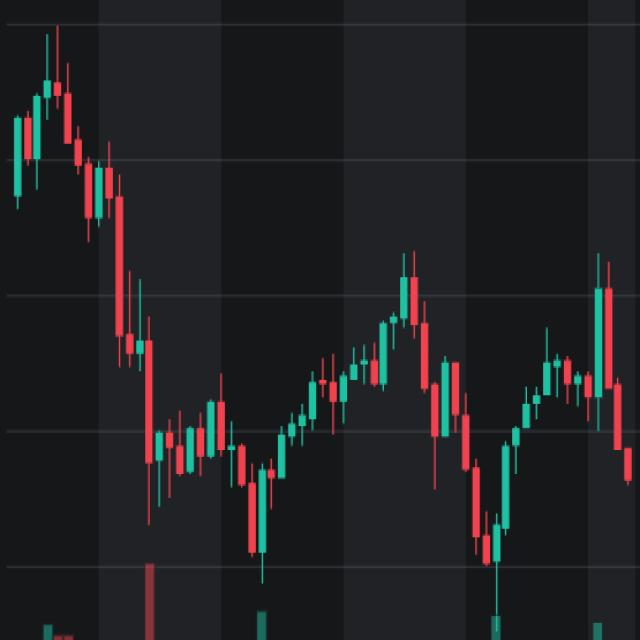Resistance-Emerging: (156, 266, 640, 570)
